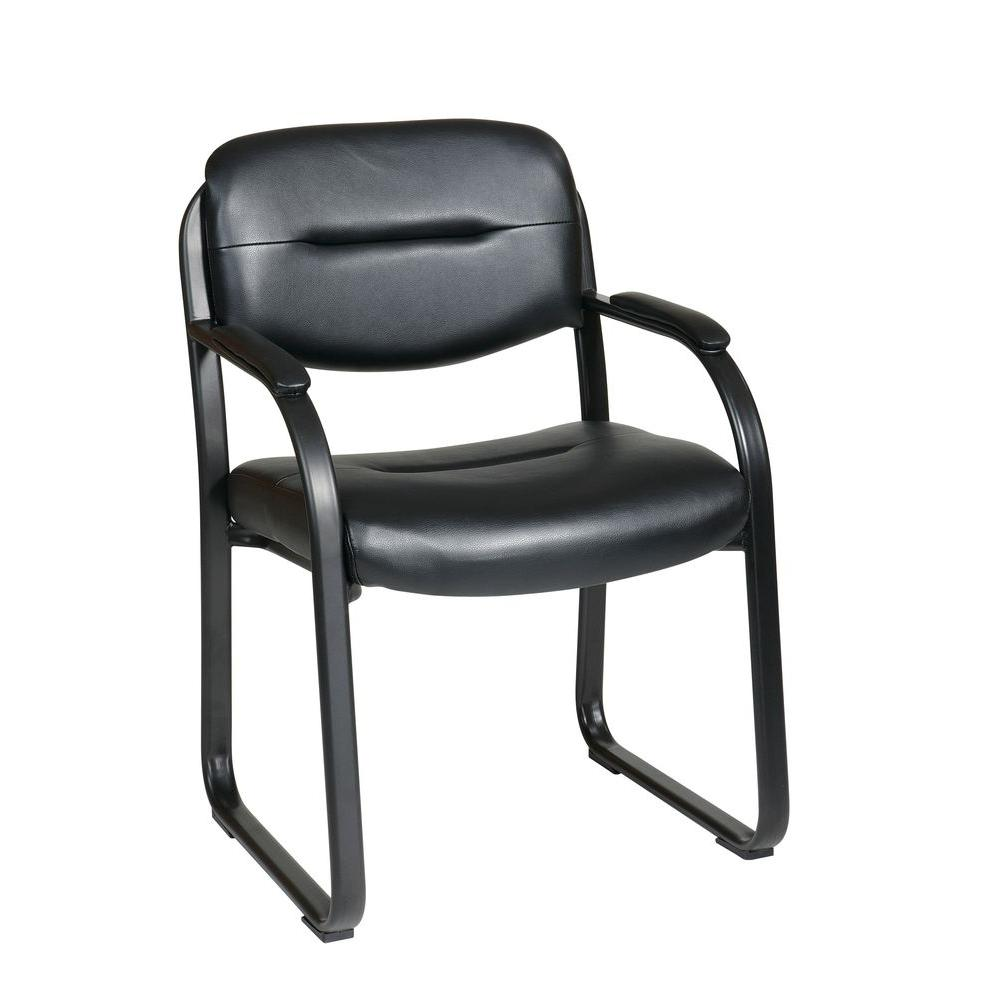chairs: (166, 103, 796, 959)
